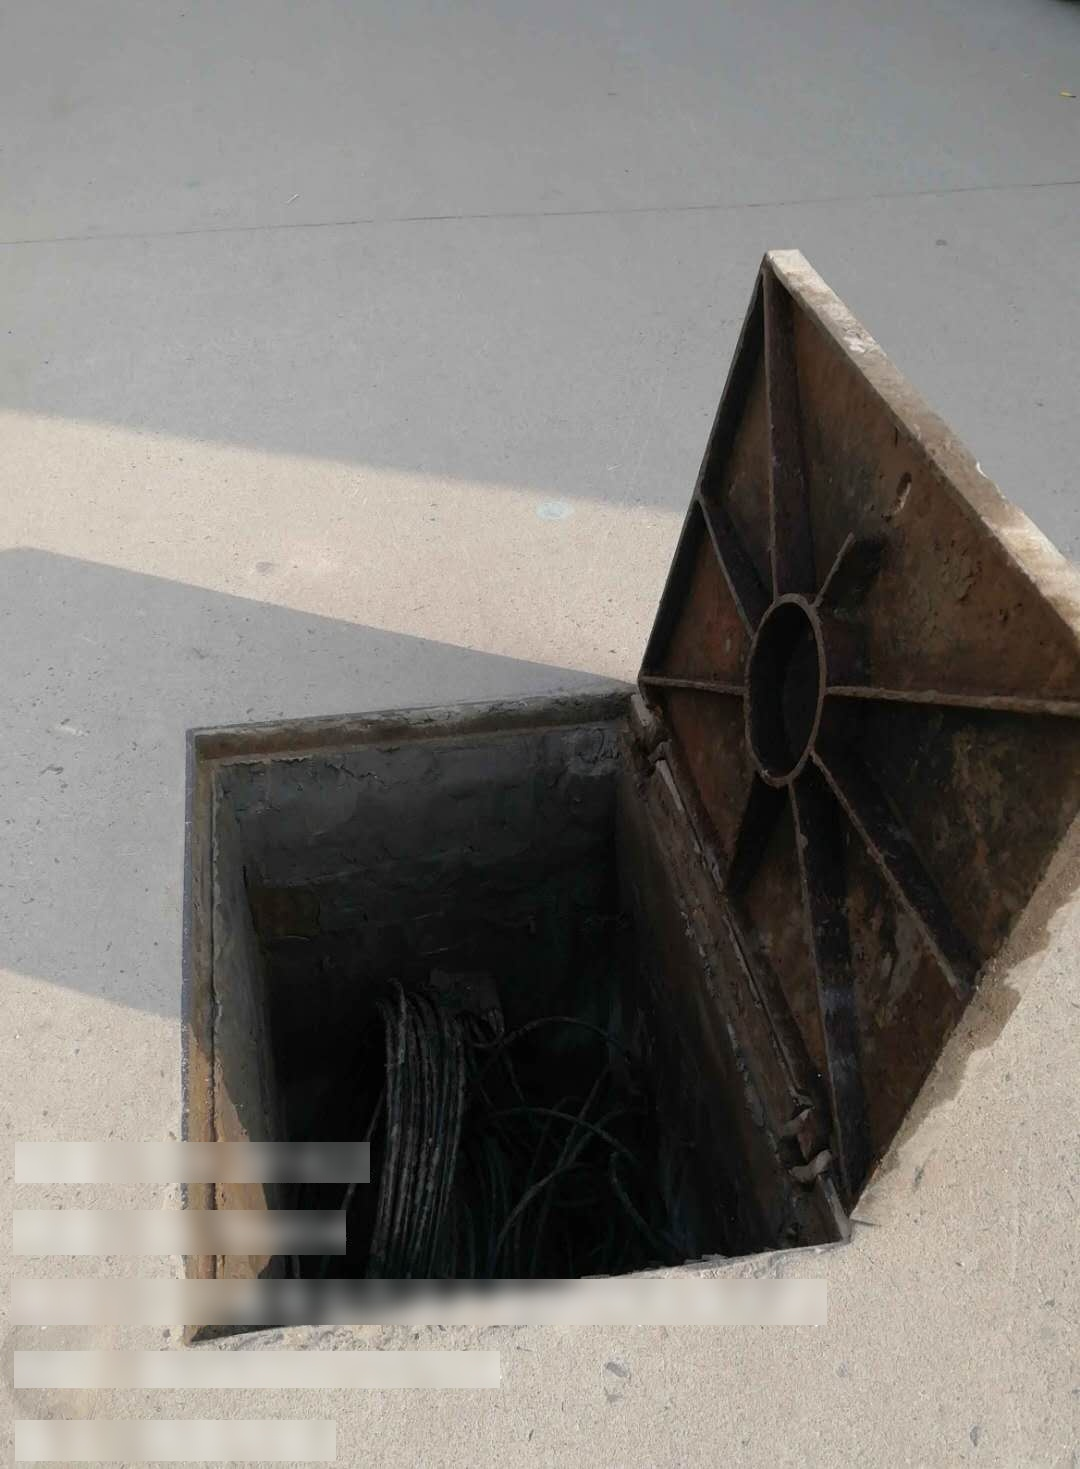uncovered: (190, 247, 1080, 1360)
